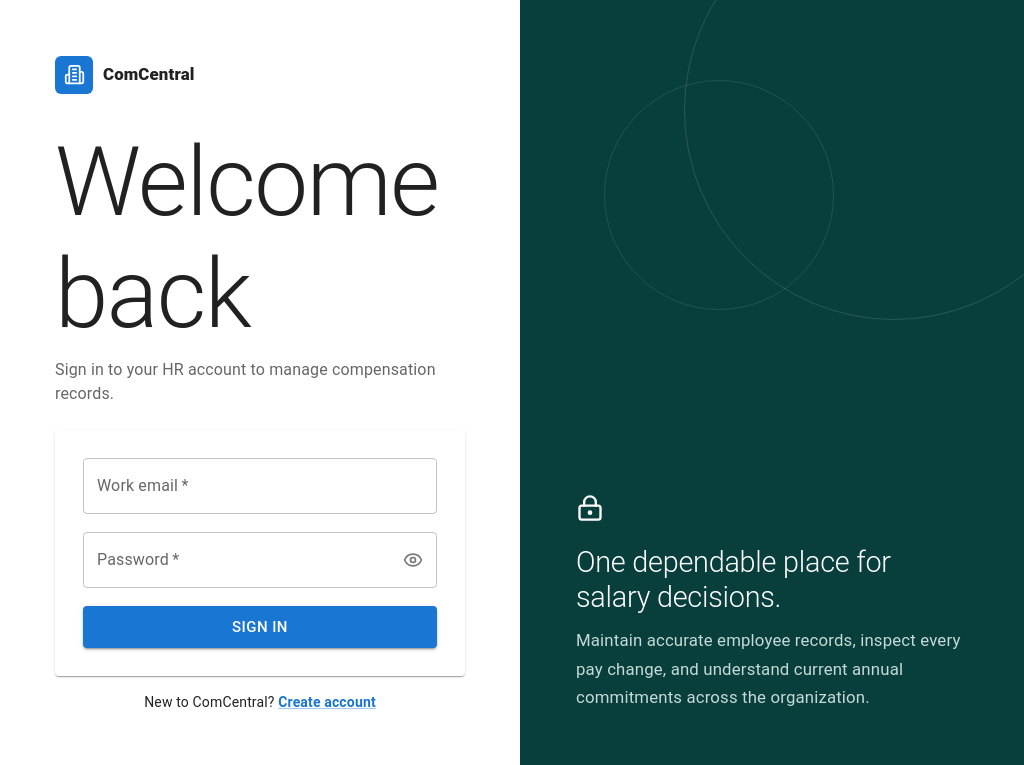
Test: LoginPage › shows retryable feedback when session confirmation fails
Type "hr@acme.test" into the field labelled "Work email *" at (260, 486), box x1=83 y1=458 x2=437 y2=514
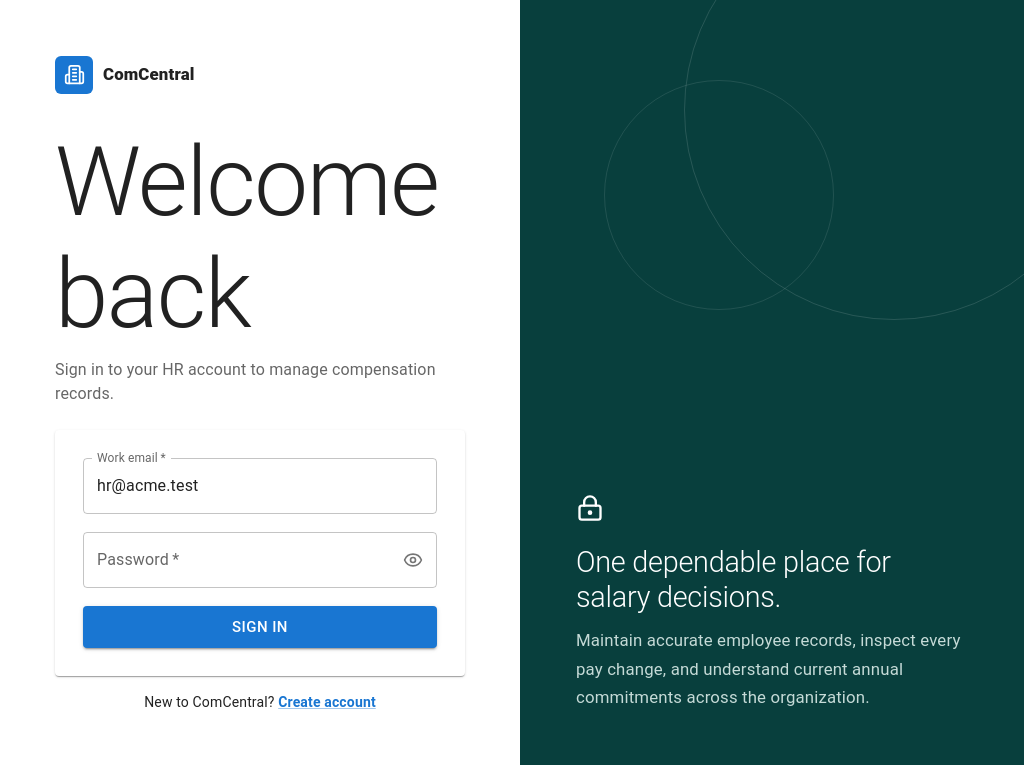
Type "abcde" into the password field labelled "Password *" at (233, 560), box x1=83 y1=532 x2=383 y2=588
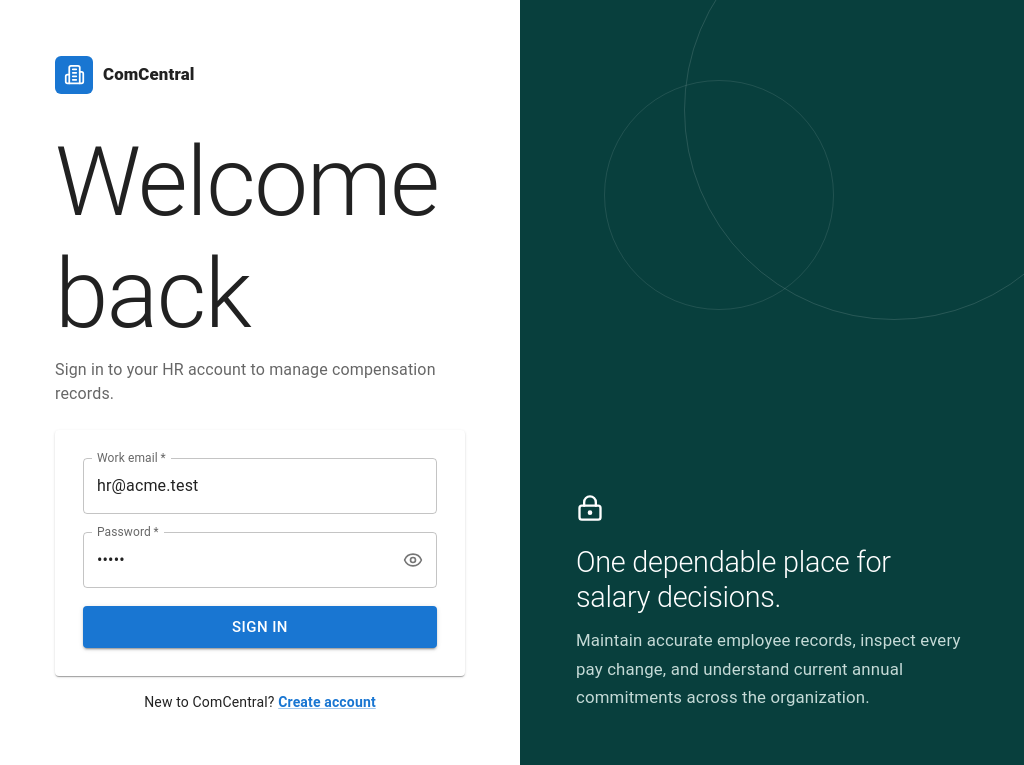
Click the button "Sign in" at (260, 627), box x1=83 y1=606 x2=437 y2=648
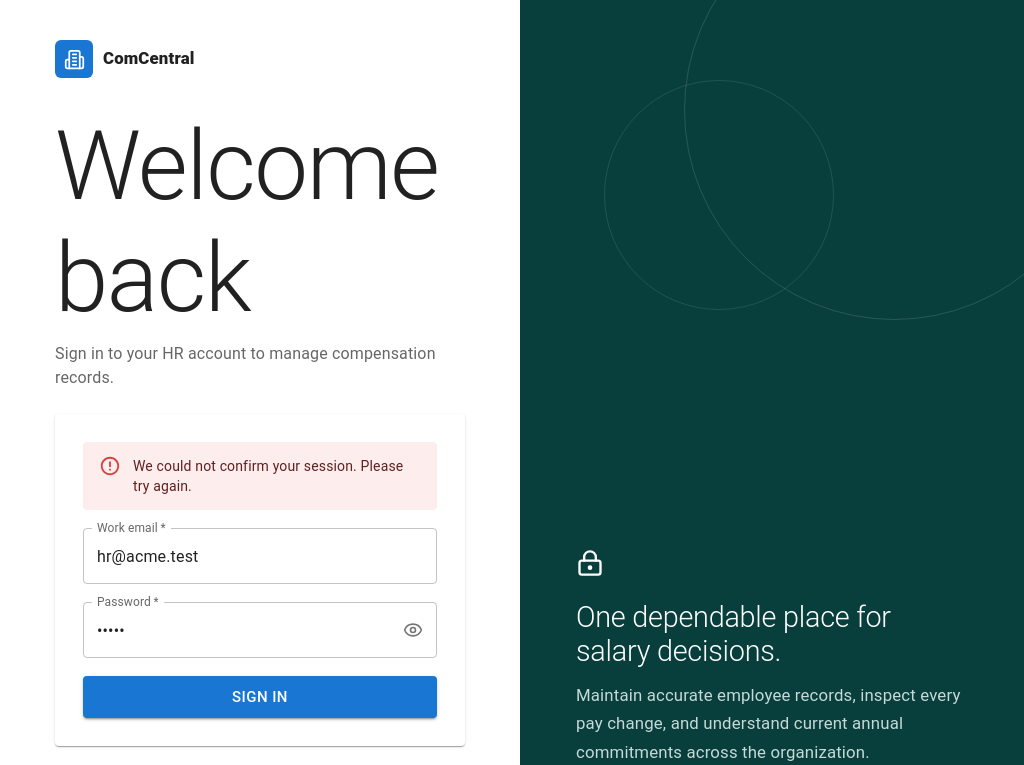
Expected: the button "Sign in" is enabled, x1=83 y1=676 x2=437 y2=718
Expected: the message reads "We could not confirm your session. Please try again.", x1=133 y1=458 x2=403 y2=494
